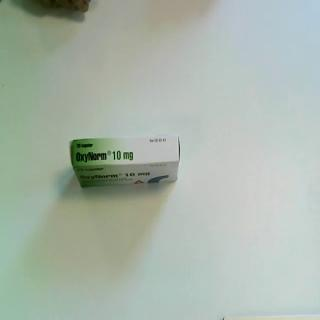oxynorm10mg: (68, 134, 180, 190)
